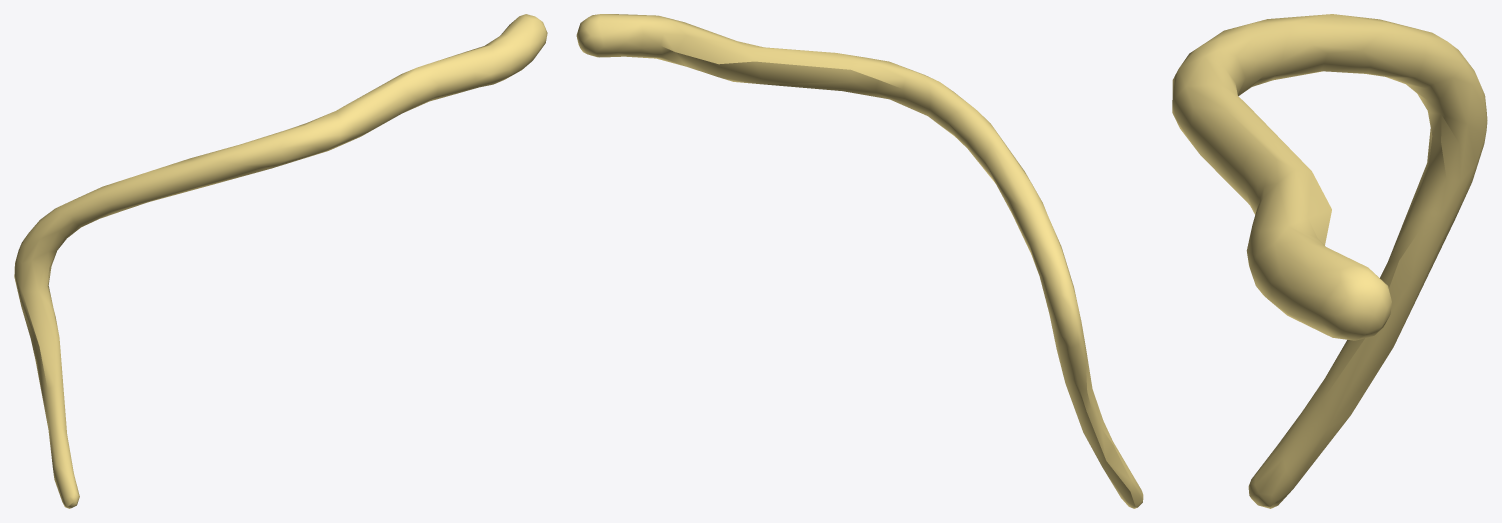
The model's file is fma52716_fj3922.glb.
3 views of the same model, side by side, from view 1: azimuth 30°, elevation 25°; view 2: azimuth 150°, elevation 25°; view 3: azimuth 270°, elevation 25° (orthographic). The views are drawn at different scales.
Parts seen in each view (by area): view 1: FMA52716_FJ3922; view 2: FMA52716_FJ3922; view 3: FMA52716_FJ3922.
Boxes of the visible parts, x1,y1,x2,y2 form: FMA52716_FJ3922: (14, 14, 547, 508); FMA52716_FJ3922: (576, 14, 1143, 508); FMA52716_FJ3922: (1172, 14, 1487, 508).
Size of the model in its own units: 0.00825 by 0.00561 by 0.00232.
